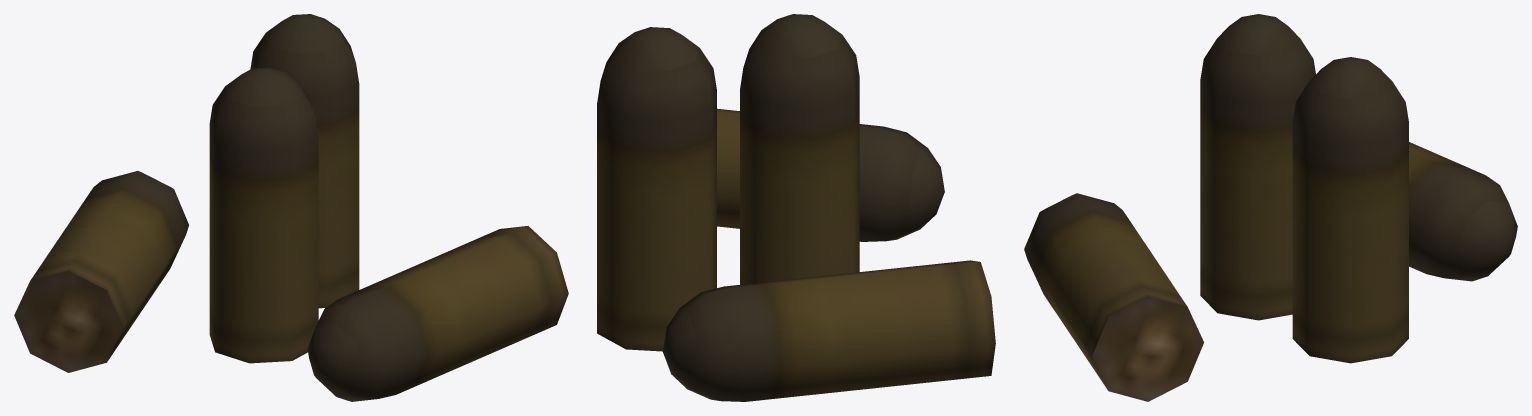
Rendered from ammo_pistol_loose_4pcs_mp_3.obj.
The picture shows the model from 3 angles, left to right: view 1: azimuth 30°, elevation 25°; view 2: azimuth 150°, elevation 25°; view 3: azimuth 270°, elevation 25°; orthographic projection. The views are drawn at different scales.
Parts seen in each view (by area): view 1: ammo_pistol_loose_4pcs_mp_3; view 2: ammo_pistol_loose_4pcs_mp_3; view 3: ammo_pistol_loose_4pcs_mp_3.
Part boxes in pixels (bbox=[...]): ammo_pistol_loose_4pcs_mp_3: bbox=[14, 14, 568, 401]; ammo_pistol_loose_4pcs_mp_3: bbox=[597, 14, 995, 401]; ammo_pistol_loose_4pcs_mp_3: bbox=[1024, 14, 1517, 401].
Size of the model in its own units: 0.0627 by 0.037 by 0.0593.
